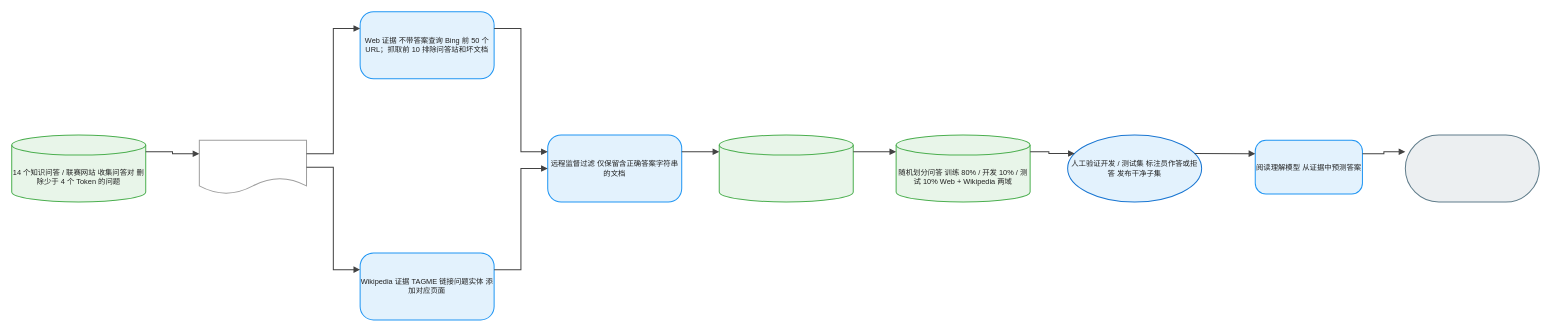
Some shapes in this 1552 by 332 pixel diagram are drawn without their labels. The shapes that lost their labels are listed below. From the top down, each one's centre as x and y in pixels, then its label:
At (x=253, y=167): "知识问答池 问题 + 已知答案".
At (x=785, y=168): "TriviaQA 语料 95,956 组问答 662,659 份证据文档 650K Web / 78K Wiki 样本".
At (x=1472, y=168): "精确匹配 + Token F1 接受 Wikipedia 别名 Wiki：问题级 Web：文档级".
